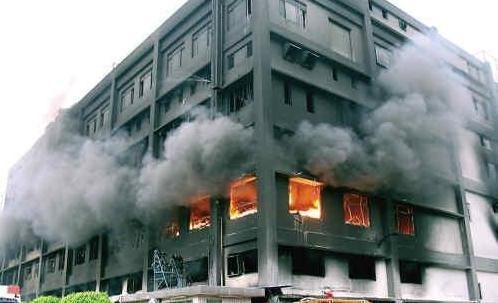fire: (288, 173, 323, 216), (228, 173, 259, 216), (342, 190, 370, 226), (186, 194, 211, 228)
